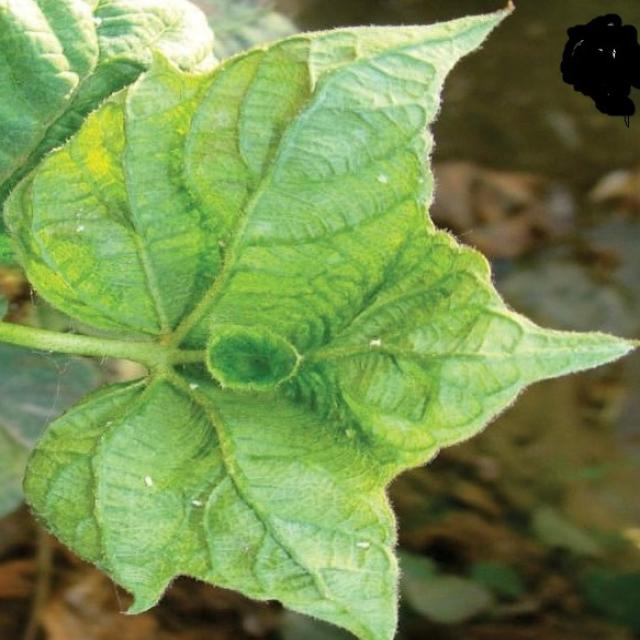Leaf Curl Virus: (66, 99, 423, 508)
